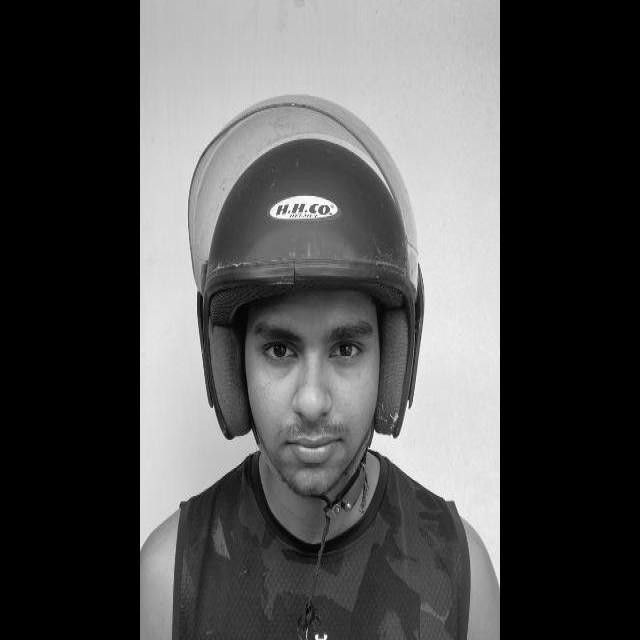5_casco: (186, 93, 426, 448)
